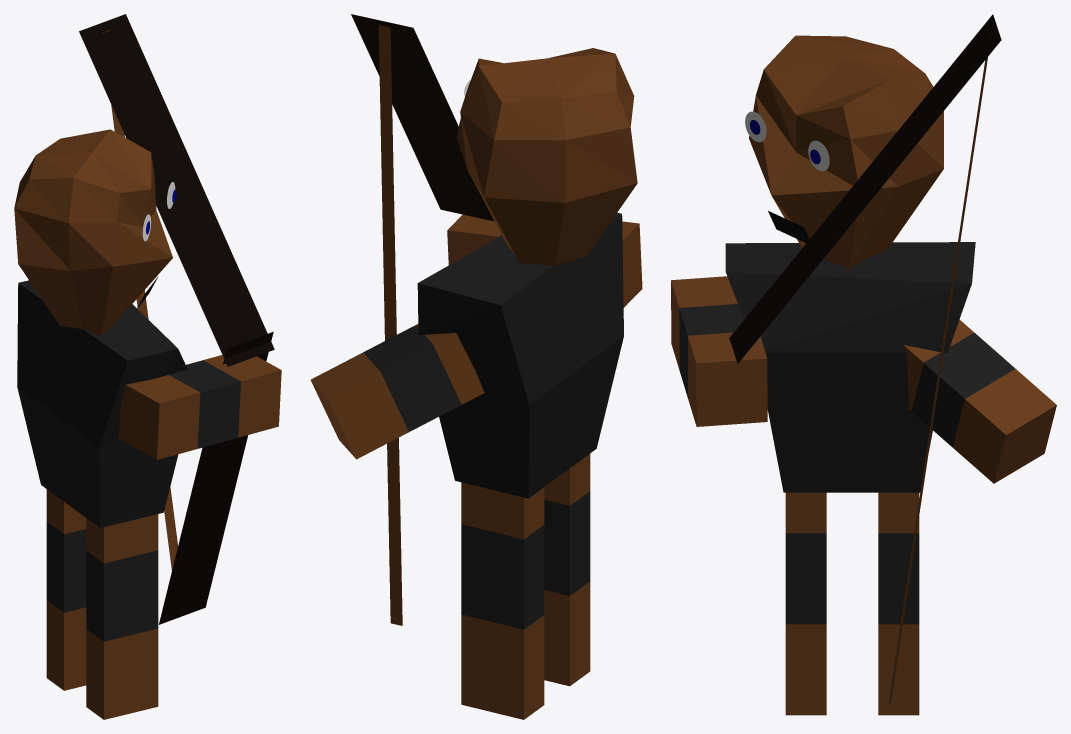
Rendered from archer2f.obj.
The picture shows the model from 3 angles, left to right: view 1: azimuth 30°, elevation 25°; view 2: azimuth 150°, elevation 25°; view 3: azimuth 270°, elevation 25°; orthographic projection. The views are drawn at different scales.
Visible parts, largest first — view 1: Cube.001, Cube, Plane.002_Plane.003, Cube.004, Cube.003, Plane.001_Plane.002, Cube.005, Plane.003_Plane.004; view 2: Cube.001, Cube, Cube.005, Cube.002, Cube.004, Plane.002_Plane.003, Plane.003_Plane.004, Cube.003; view 3: Cube.001, Cube, Cube.002, Cube.003, Plane.002_Plane.003, Cube.004, Cube.005, Plane.003_Plane.004.
Boxes of the visible parts, x1,y1,x2,y2 form: Cube.001: [17, 280, 187, 527]; Cube: [14, 129, 172, 335]; Plane.002_Plane.003: [79, 14, 274, 366]; Cube.004: [86, 514, 158, 719]; Cube.003: [119, 355, 281, 459]; Plane.001_Plane.002: [159, 332, 273, 624]; Cube.005: [46, 489, 86, 690]; Plane.003_Plane.004: [102, 30, 177, 570]; Cube.001: [417, 212, 623, 498]; Cube: [456, 48, 637, 265]; Cube.005: [461, 482, 544, 719]; Cube.002: [311, 324, 484, 459]; Cube.004: [544, 454, 590, 686]; Plane.002_Plane.003: [351, 14, 494, 221]; Plane.003_Plane.004: [378, 25, 402, 625]; Cube.003: [447, 214, 642, 307]; Cube.001: [725, 242, 975, 492]; Cube: [749, 35, 943, 268]; Cube.002: [903, 319, 1056, 483]; Cube.003: [671, 276, 767, 426]; Plane.002_Plane.003: [729, 14, 1001, 363]; Cube.004: [785, 492, 826, 715]; Cube.005: [878, 492, 919, 715]; Plane.003_Plane.004: [889, 33, 990, 705].
Size of the model in its own units: 2.42 by 6.6 by 3.26.
